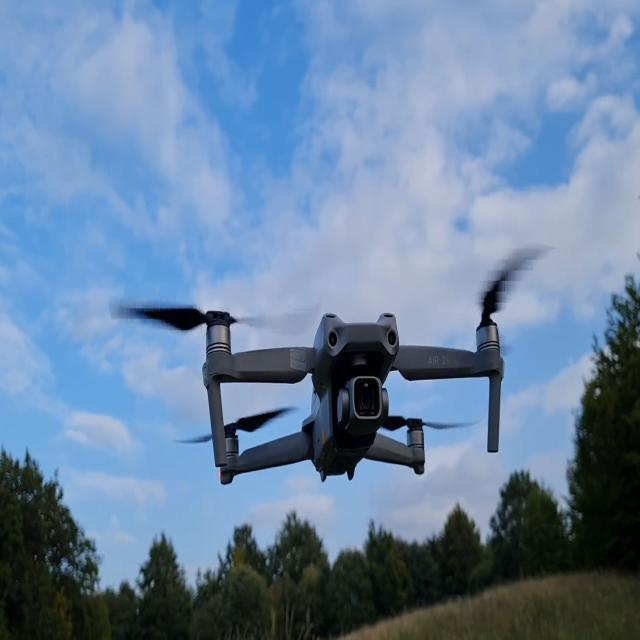drone: (108, 242, 557, 486)
